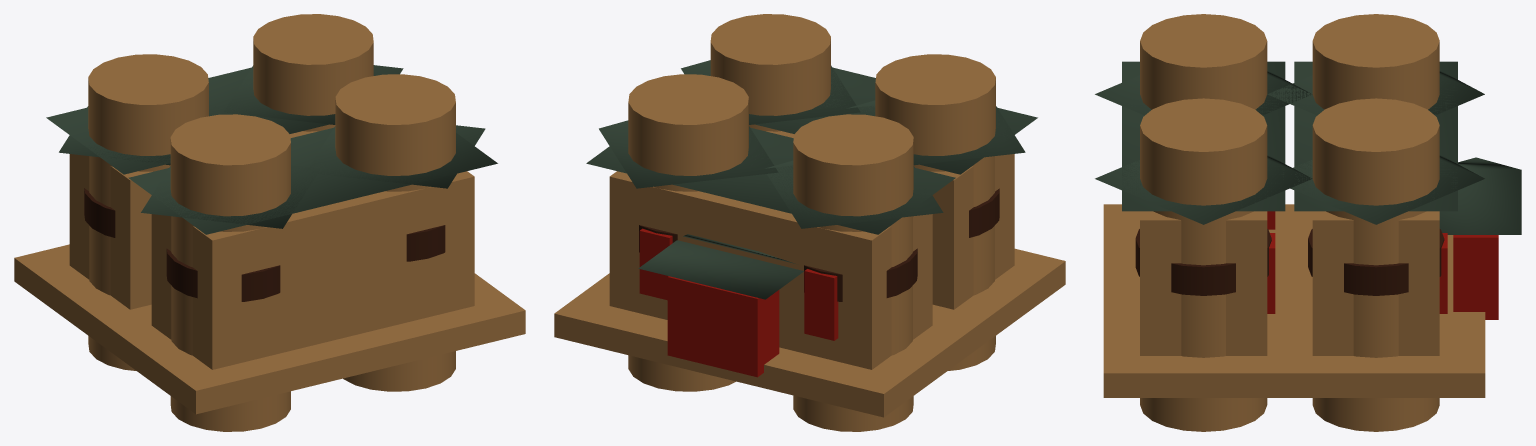
File: Taicang.fbx
3 views of the same model, side by side, from view 1: azimuth 30°, elevation 25°; view 2: azimuth 150°, elevation 25°; view 3: azimuth 270°, elevation 25° (orthographic). The views are drawn at different scales.
Parts seen in each view (by area): view 1: north_pair, yard, ne_drum, nw_drum, se_drum, sw_drum, north_roof, south_pair, south_roof, ne_roof, nw_roof, ne_belt (+4 smaller); view 2: south_pair, yard, se_drum, sw_drum, ne_drum, nw_drum, south_gate, north_pair, south_roof, south_gate_roof, north_roof, sw_roof (+7 smaller); view 3: yard, sw_drum, nw_drum, north_pair, south_pair, se_drum, ne_drum, south_gate_roof, south_roof, north_roof, south_gate, nw_roof (+7 smaller).
Boxes of the visible parts, x1,y1,x2,y2 form: north_pair: (151,171,474,369); yard: (14,244,525,414); ne_drum: (170,114,290,431); nw_drum: (335,74,455,391); se_drum: (88,54,208,370); sw_drum: (253,14,373,131); north_roof: (128,127,497,234); south_pair: (69,131,317,309); south_roof: (46,67,376,174); ne_roof: (141,165,320,228); nw_roof: (307,125,485,188); ne_belt: (166,248,280,301); south_pair: (609,171,932,369); yard: (554,248,1065,417); se_drum: (793,114,913,431); sw_drum: (628,74,748,391); ne_drum: (875,54,995,370); nw_drum: (710,14,830,131); south_gate: (667,276,779,377); north_pair: (766,131,1014,309); south_roof: (586,127,955,234); south_gate_roof: (638,234,803,299); north_roof: (706,67,1037,174); sw_roof: (599,120,778,188); yard: (1103,204,1485,397); sw_drum: (1312,98,1439,431); nw_drum: (1140,98,1267,431); north_pair: (1140,211,1267,355); south_pair: (1312,211,1439,355); se_drum: (1312,14,1439,109); ne_drum: (1140,14,1267,109); south_gate_roof: (1439,157,1521,234); south_roof: (1294,61,1457,211); north_roof: (1122,61,1285,211); south_gate: (1453,235,1498,319); nw_roof: (1095,155,1312,224).
Size of the model in its own units: 92.08 by 68 by 94.04.
